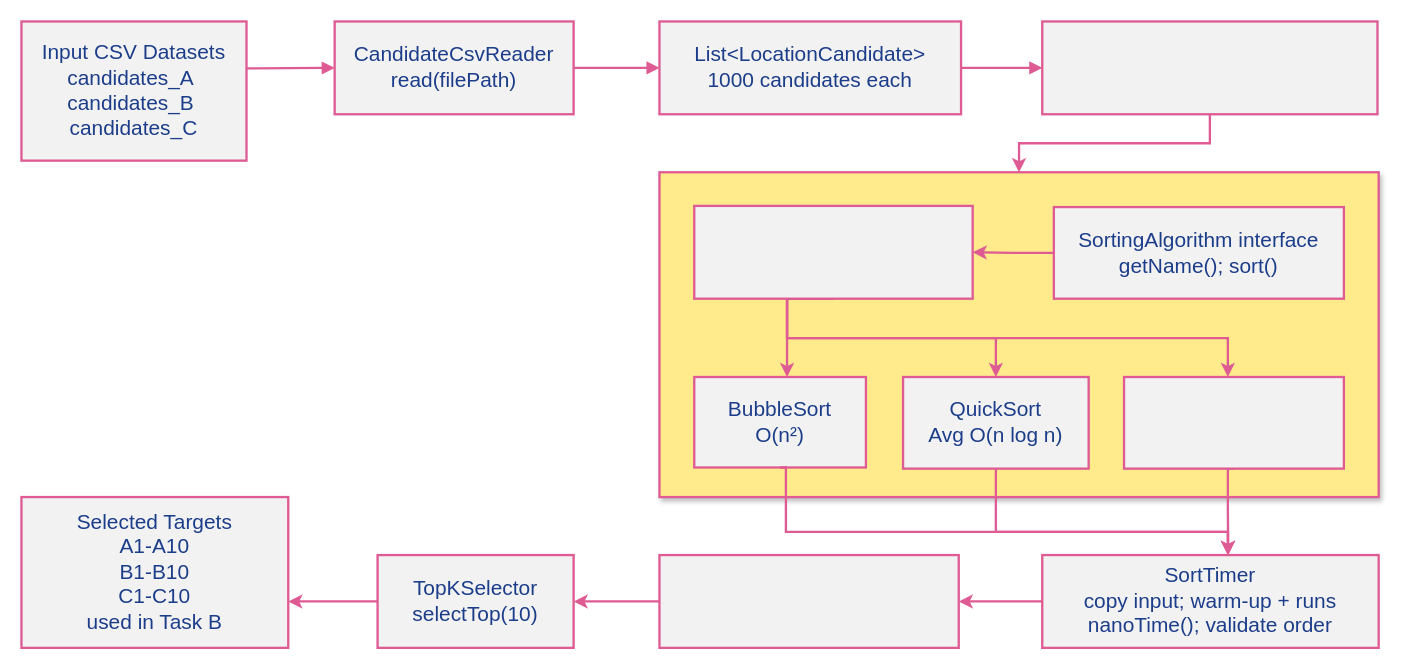
Image size: 1406x668. Some labels were removed from this diagram. The centre of each missing label's shape, as x and y in pixels:
AbstractSortingAlgorithm compare(); swap(): (x=833, y=251)
LocationCandidate.compareTo() score desc; id asc if tied: (x=1209, y=67)
MergeSort O(n log n): (x=1233, y=422)
SortingResult runtime stats + sorted list: (x=808, y=600)
